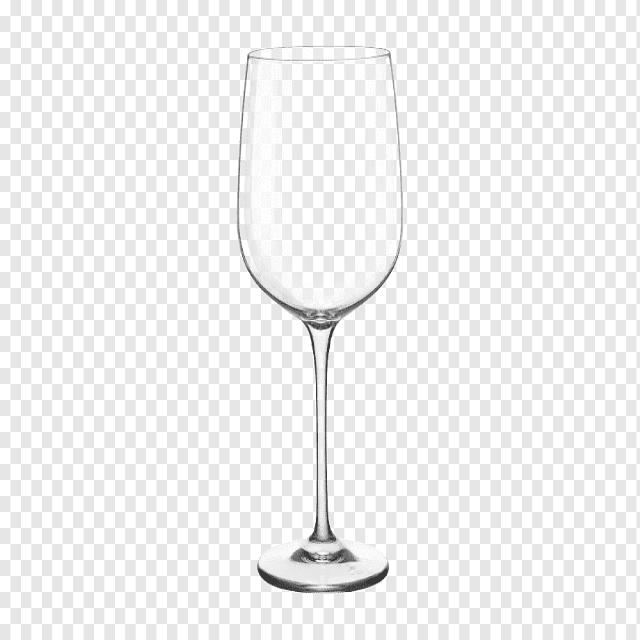Gelas: (216, 48, 434, 617)
